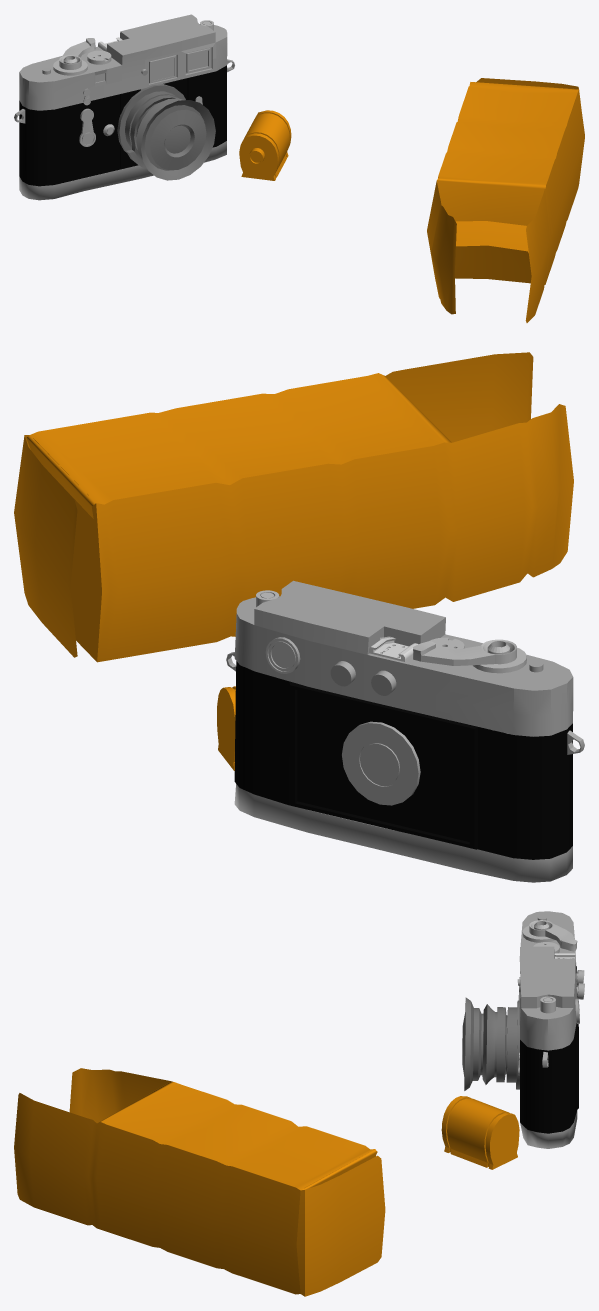
File: discamera.fbx
3 views of the same model, one above another, from view 1: azimuth 30°, elevation 25°; view 2: azimuth 150°, elevation 25°; view 3: azimuth 270°, elevation 25° (orthographic). The views are drawn at different scales.
Parts seen in each view (by area): view 1: pPlane1, pCube7, pCube4, pCylinder4, pCylinder5, pCube6, pCylinder8; view 2: pPlane1, pCube4, pCube7, pCube6, pCylinder21, pCylinder8, pCylinder5, pCylinder13, pCube8; view 3: pPlane1, pCube7, pCube4, pCylinder4, pCylinder5, pCylinder8, pCube6.
Part boxes in pixels (box(x1,y1,x2,y2)): pPlane1: box(427, 78, 584, 322); pCube7: box(19, 14, 227, 110); pCube4: box(19, 65, 226, 186); pCylinder4: box(117, 84, 215, 180); pCylinder5: box(239, 110, 291, 180); pCube6: box(19, 141, 226, 200); pCylinder8: box(53, 38, 95, 75); pPlane1: box(14, 352, 573, 662); pCube4: box(234, 661, 572, 859); pCube7: box(234, 580, 573, 736); pCube6: box(234, 784, 572, 882); pCylinder21: box(342, 721, 420, 805); pCylinder8: box(413, 639, 526, 673); pCylinder5: box(217, 686, 235, 770); pCylinder13: box(265, 637, 300, 673); pCube8: box(369, 636, 418, 661); pPlane1: box(14, 1068, 385, 1296); pCube7: box(519, 911, 576, 1050); pCube4: box(520, 966, 578, 1133); pCylinder4: box(462, 997, 519, 1090); pCylinder5: box(441, 1096, 519, 1169); pCylinder8: box(522, 920, 577, 951); pCube6: box(520, 1041, 577, 1148).
Bounding box in the file's own units: 16.3 × 4.95 × 15.95.
